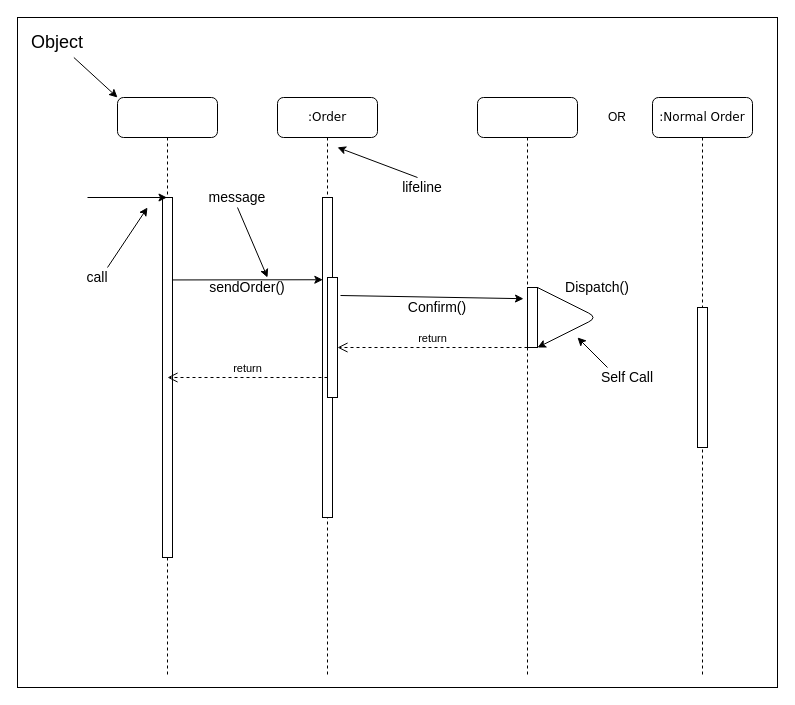
Some shapes in this 795 by 705 pixel diagram are drawn without their labels. Each missing label, with the box of its shape:
:Customer: (116, 96, 218, 678)
:Special Order: (476, 96, 578, 678)
